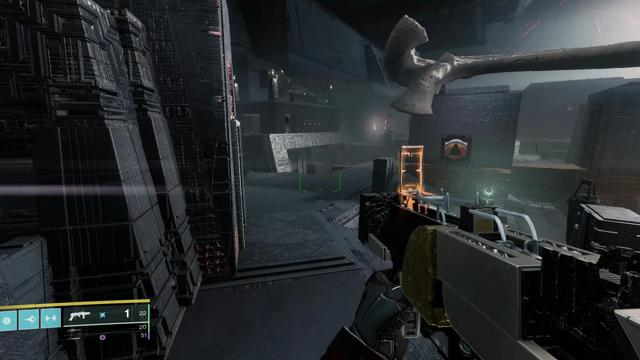pyramid: (444, 139, 468, 160)
